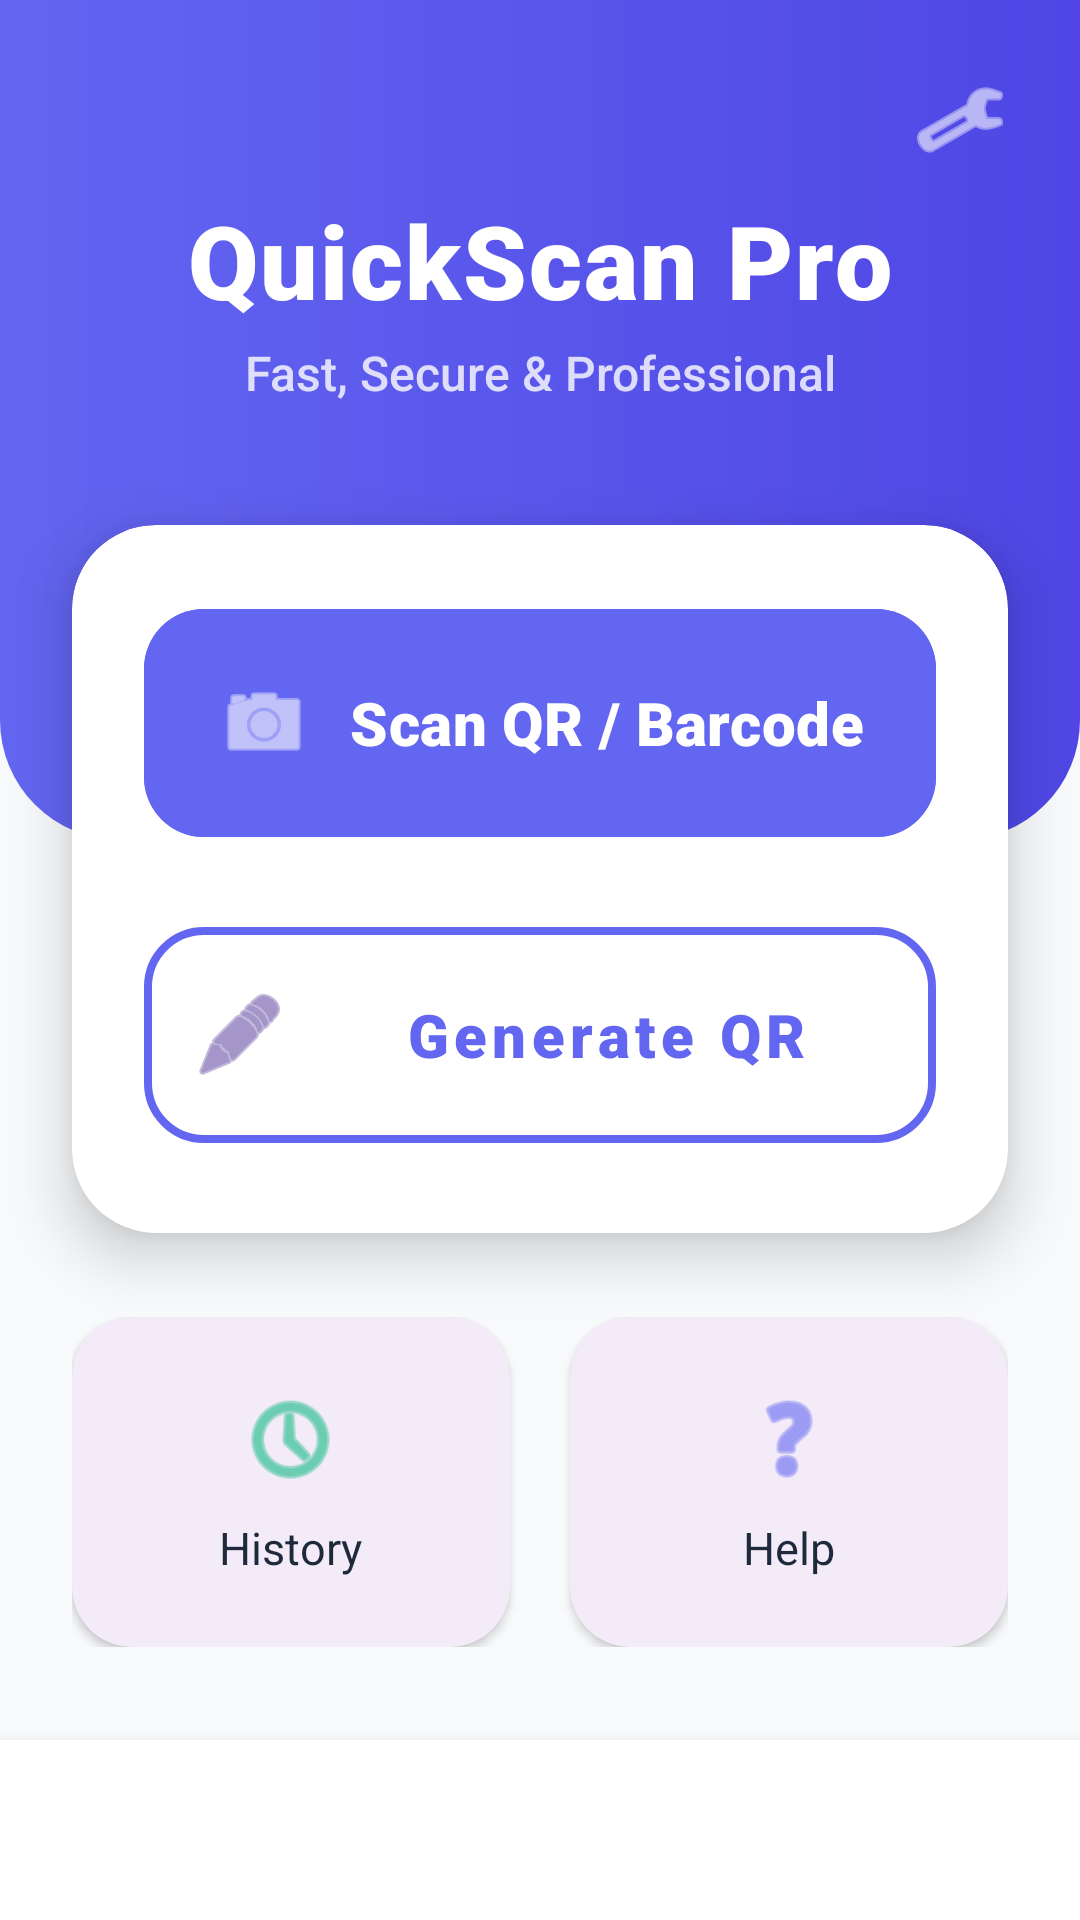

Point at icon controls on the screen. Image size 1080 × 1920, points as (x=x, y=y).
Settings: (x=960, y=120)
